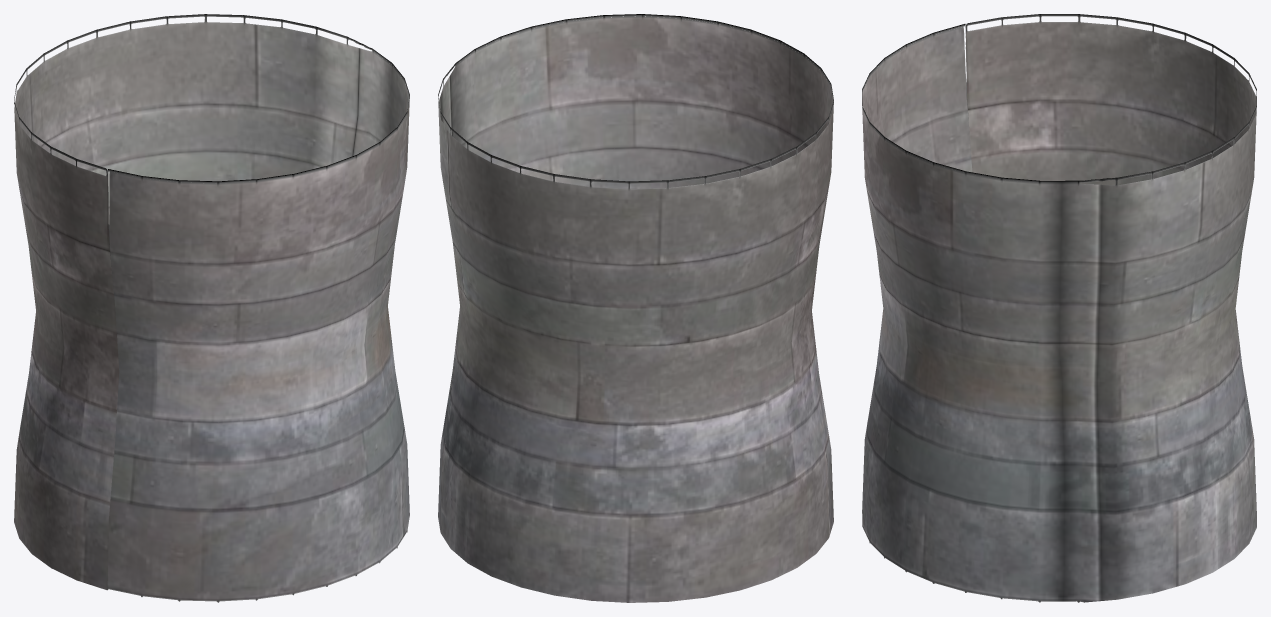
File: stoneTurret.fbx
The picture shows the model from 3 angles, left to right: view 1: azimuth 30°, elevation 25°; view 2: azimuth 150°, elevation 25°; view 3: azimuth 270°, elevation 25°; orthographic projection.
Visible parts, largest first — view 1: Circle; view 2: Circle; view 3: Circle.
Part boxes in pixels (<box>): Circle: <box>14,14,409,602</box>; Circle: <box>438,14,833,602</box>; Circle: <box>862,14,1256,602</box>.
Bounding box in the file's own units: 199 × 235 × 199.
